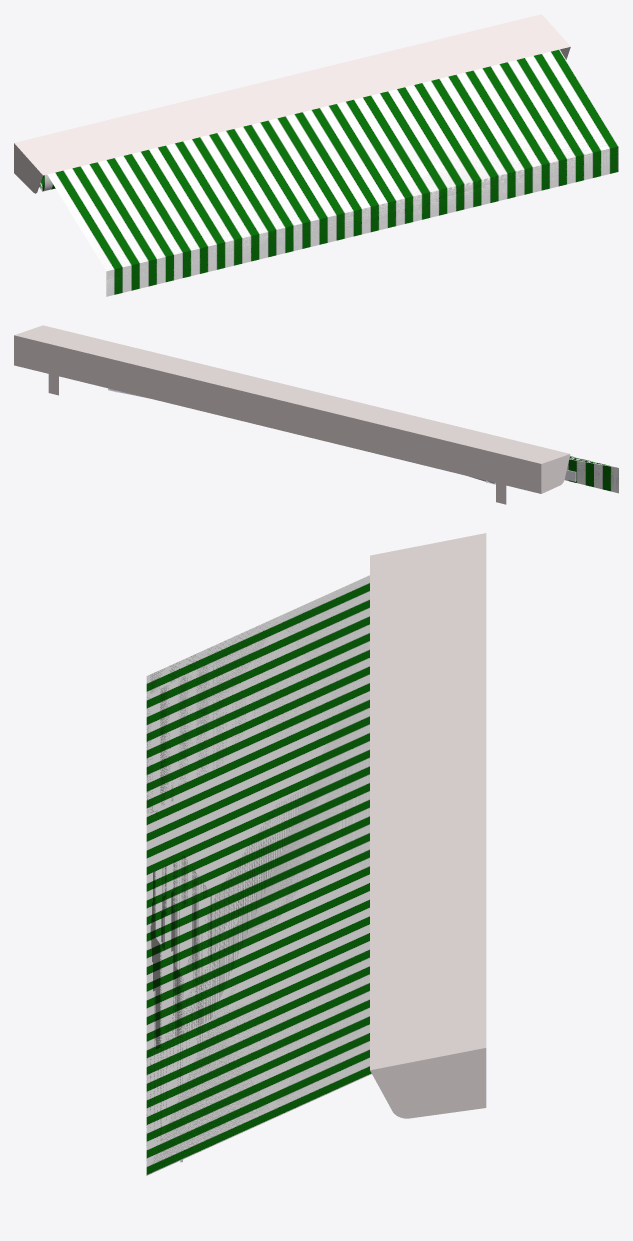
File: awning.glb
3 renders of one model, top to bottom at view 1: azimuth 30°, elevation 25°; view 2: azimuth 150°, elevation 25°; view 3: azimuth 270°, elevation 25°, orthographic. The views are drawn at different scales.
Parts seen in each view (by area): view 1: Object_3, Object_2; view 2: Object_2, Object_3; view 3: Object_3, Object_2.
Part boxes in pixels (x1,y1,x2,y2): Object_3: (39, 49, 618, 296); Object_2: (14, 14, 570, 193); Object_2: (14, 325, 570, 504); Object_3: (564, 456, 618, 493); Object_3: (146, 575, 371, 1175); Object_2: (370, 533, 486, 1118).
Size of the model in its own units: 5.8 by 0.9827 by 1.62.
Materials: 4 (1 with a texture image).
